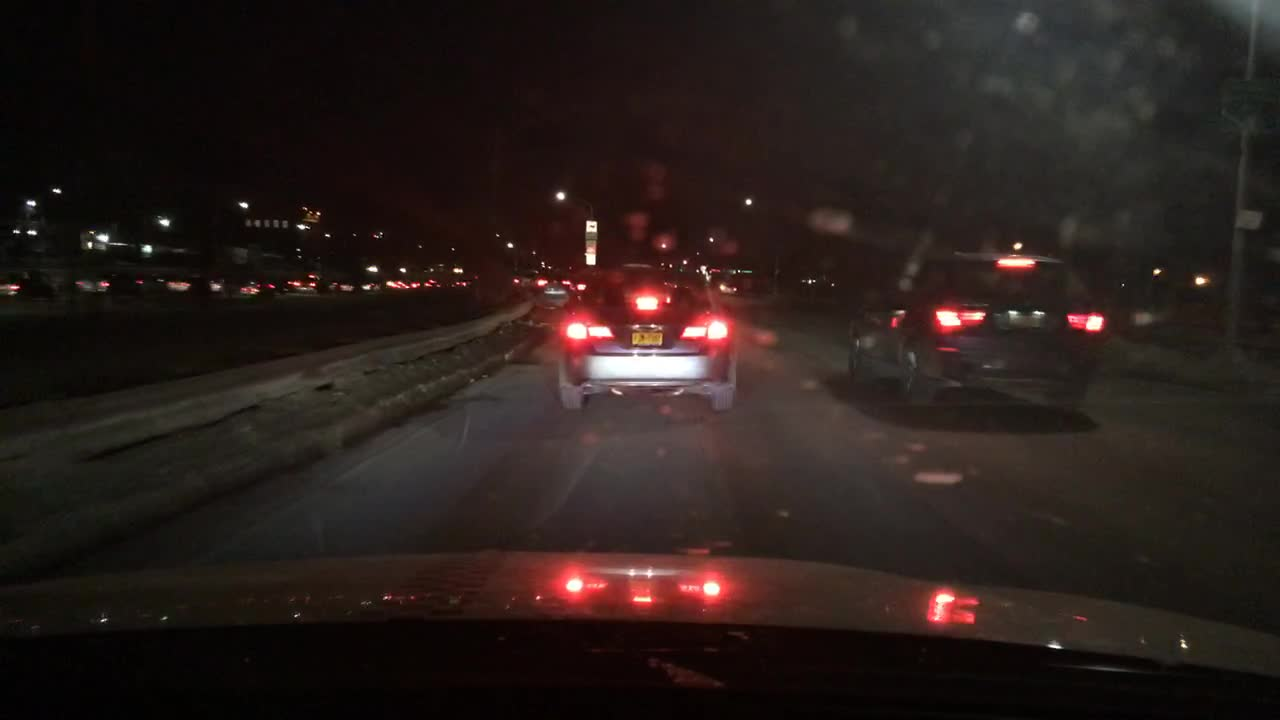car: (844, 242, 1107, 408), (551, 257, 738, 414), (0, 273, 57, 307), (108, 271, 153, 299), (61, 270, 109, 296), (148, 273, 191, 295), (283, 272, 327, 290), (187, 270, 221, 293), (236, 278, 275, 295), (366, 274, 399, 291), (326, 275, 357, 292), (543, 279, 567, 300), (570, 281, 588, 306), (718, 277, 740, 296), (419, 274, 440, 289), (447, 277, 468, 292), (403, 277, 421, 289)
traffic sign: (1219, 73, 1276, 130), (1233, 207, 1260, 229)
